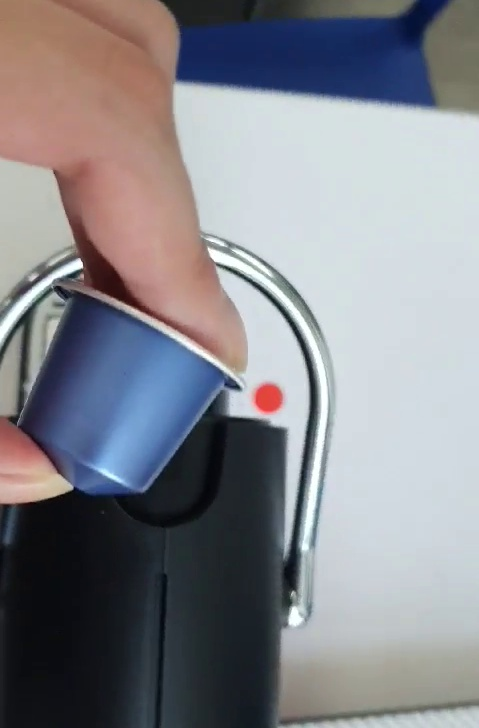capsule_7: (10, 274, 248, 500)
